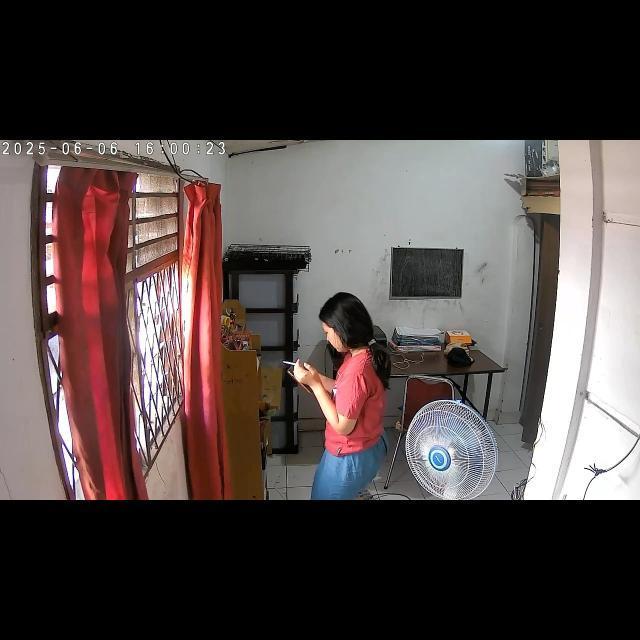rokok: (282, 358, 300, 366)
